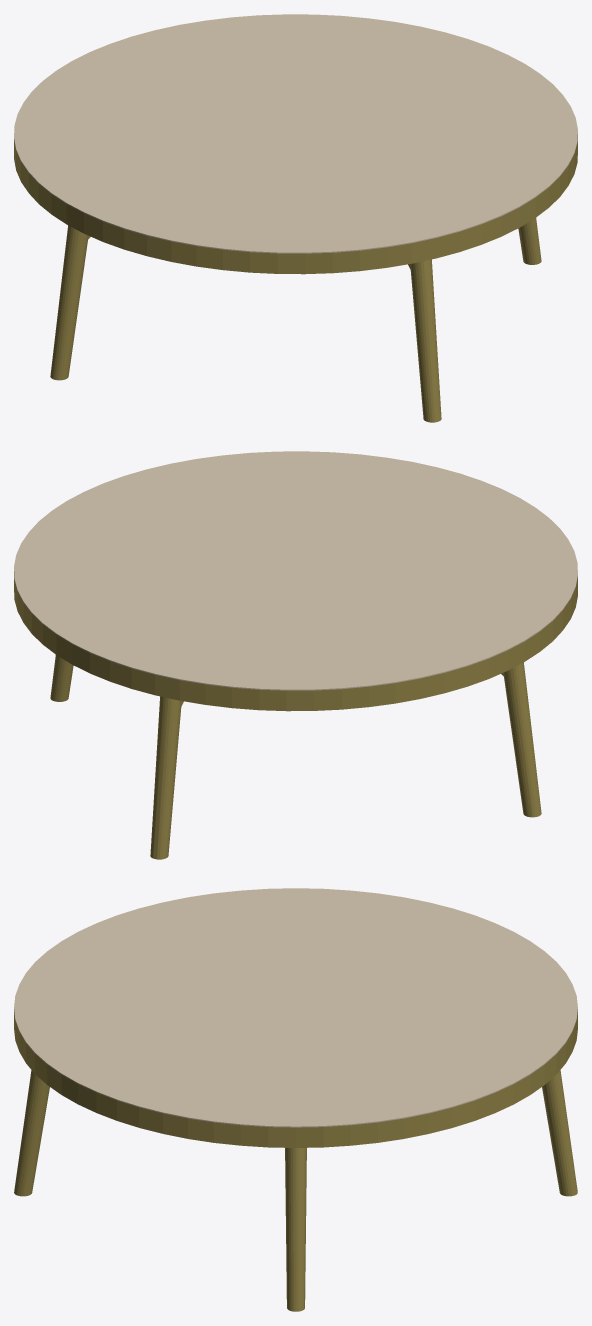
Rendered from round_table_1.glb.
3 renders of one model, top to bottom at view 1: azimuth 30°, elevation 25°; view 2: azimuth 150°, elevation 25°; view 3: azimuth 270°, elevation 25°, orthographic.
Parts seen in each view (by area): view 1: Mesh_Mesh_head_geo.001_lambert2SG.001; view 2: Mesh_Mesh_head_geo.001_lambert2SG.001; view 3: Mesh_Mesh_head_geo.001_lambert2SG.001.
Boxes of the visible parts, x1,y1,x2,y2 form: Mesh_Mesh_head_geo.001_lambert2SG.001: (14,14,577,422); Mesh_Mesh_head_geo.001_lambert2SG.001: (14,451,577,859); Mesh_Mesh_head_geo.001_lambert2SG.001: (14,888,577,1311).
Bounding box in the file's own units: 3.5 × 1.27 × 3.5.
